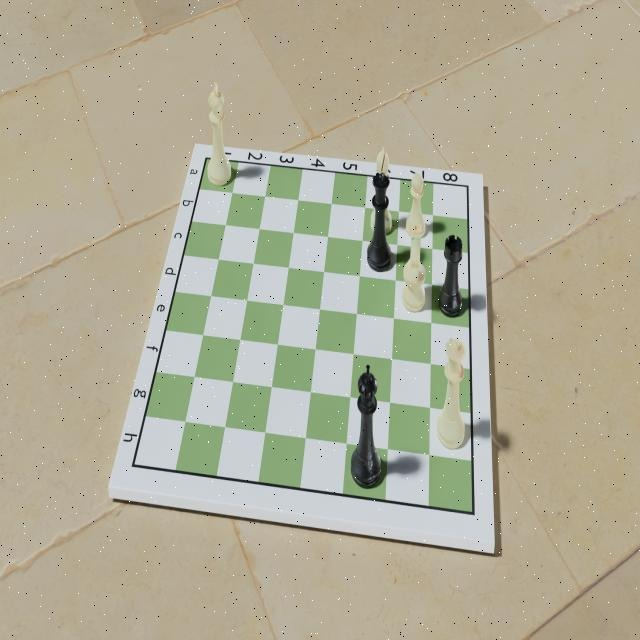black-king: (349, 360, 386, 491)
black-queen: (365, 170, 395, 274)
black-rook: (436, 232, 464, 320)
white-bishop: (368, 146, 396, 237)
white-king: (201, 77, 235, 189)
white-knight: (400, 216, 430, 319)
white-pawn: (403, 169, 429, 243)
white-queen: (435, 334, 467, 457)
